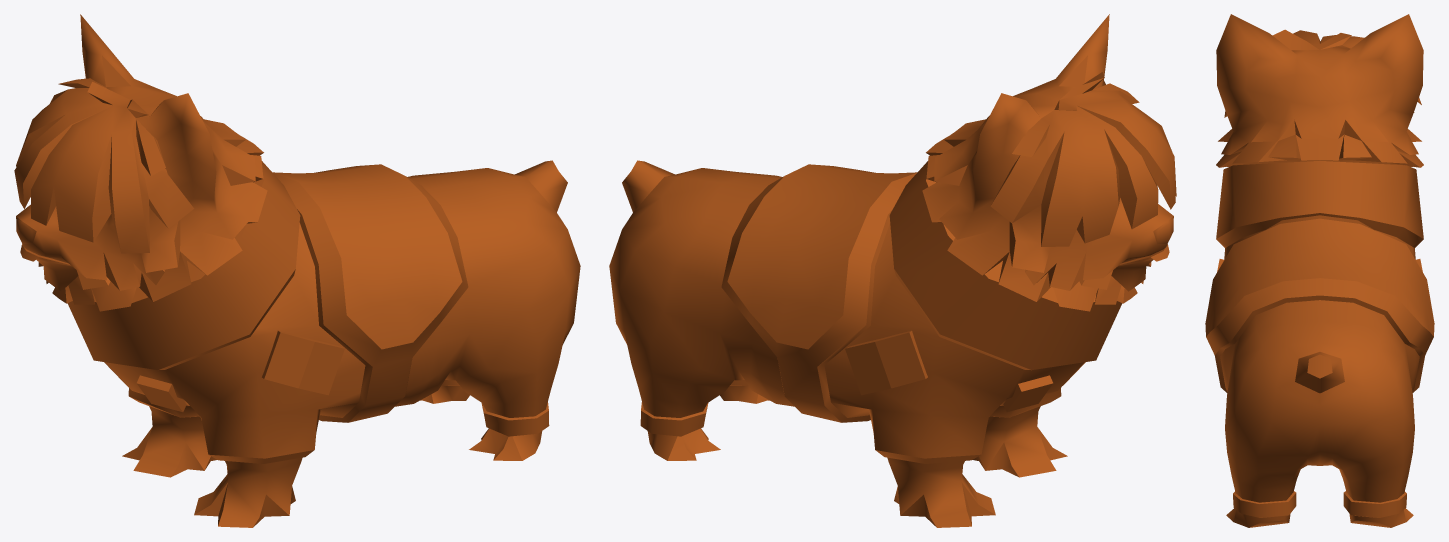
File: Character_Dog_square.fbx
The picture shows the model from 3 angles, left to right: view 1: azimuth 30°, elevation 25°; view 2: azimuth 150°, elevation 25°; view 3: azimuth 270°, elevation 25°; orthographic projection. The views are drawn at different scales.
Parts seen in each view (by area): view 1: Dog_Suit_square, Dog_body_square; view 2: Dog_Suit_square, Dog_body_square; view 3: Dog_Suit_square, Dog_body_square.
Boxes of the visible parts, <box> form: Dog_Suit_square: <box>67,160,580,463</box>; Dog_body_square: <box>14,14,542,527</box>; Dog_Suit_square: <box>609,160,1122,463</box>; Dog_body_square: <box>647,14,1176,527</box>; Dog_Suit_square: <box>1205,160,1434,517</box>; Dog_body_square: <box>1216,14,1423,527</box>.
Bounding box in the file's own units: 38.35 × 16.96 × 30.23.
